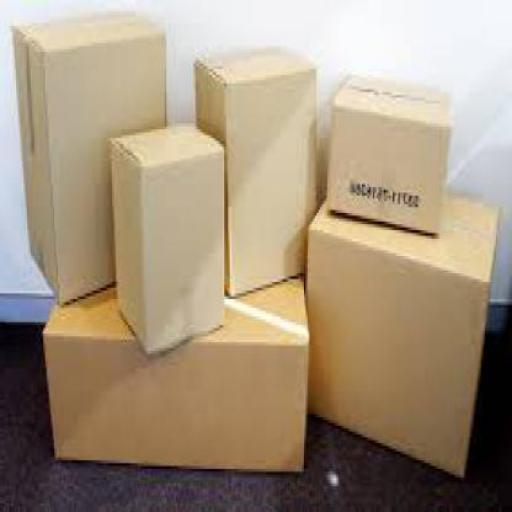cardboard: (309, 184, 503, 478), (43, 259, 311, 468), (14, 14, 167, 302), (197, 46, 320, 296), (114, 120, 226, 350), (329, 67, 456, 230)
